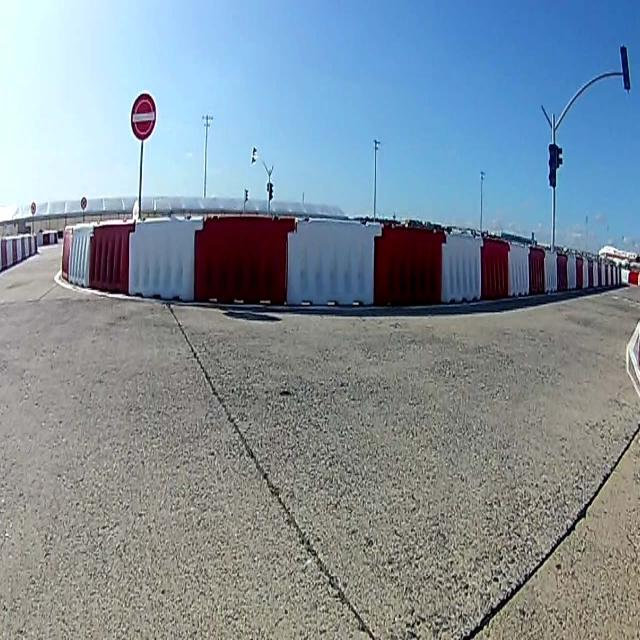girisyok: (131, 95, 155, 140)
